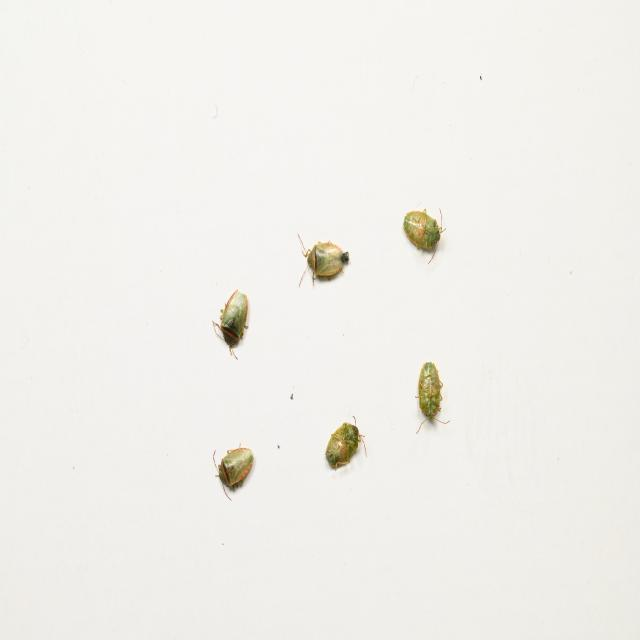stinkbug: (297, 231, 350, 293), (211, 288, 251, 362), (403, 202, 446, 268), (324, 413, 367, 478), (415, 358, 450, 436), (212, 443, 255, 500)
